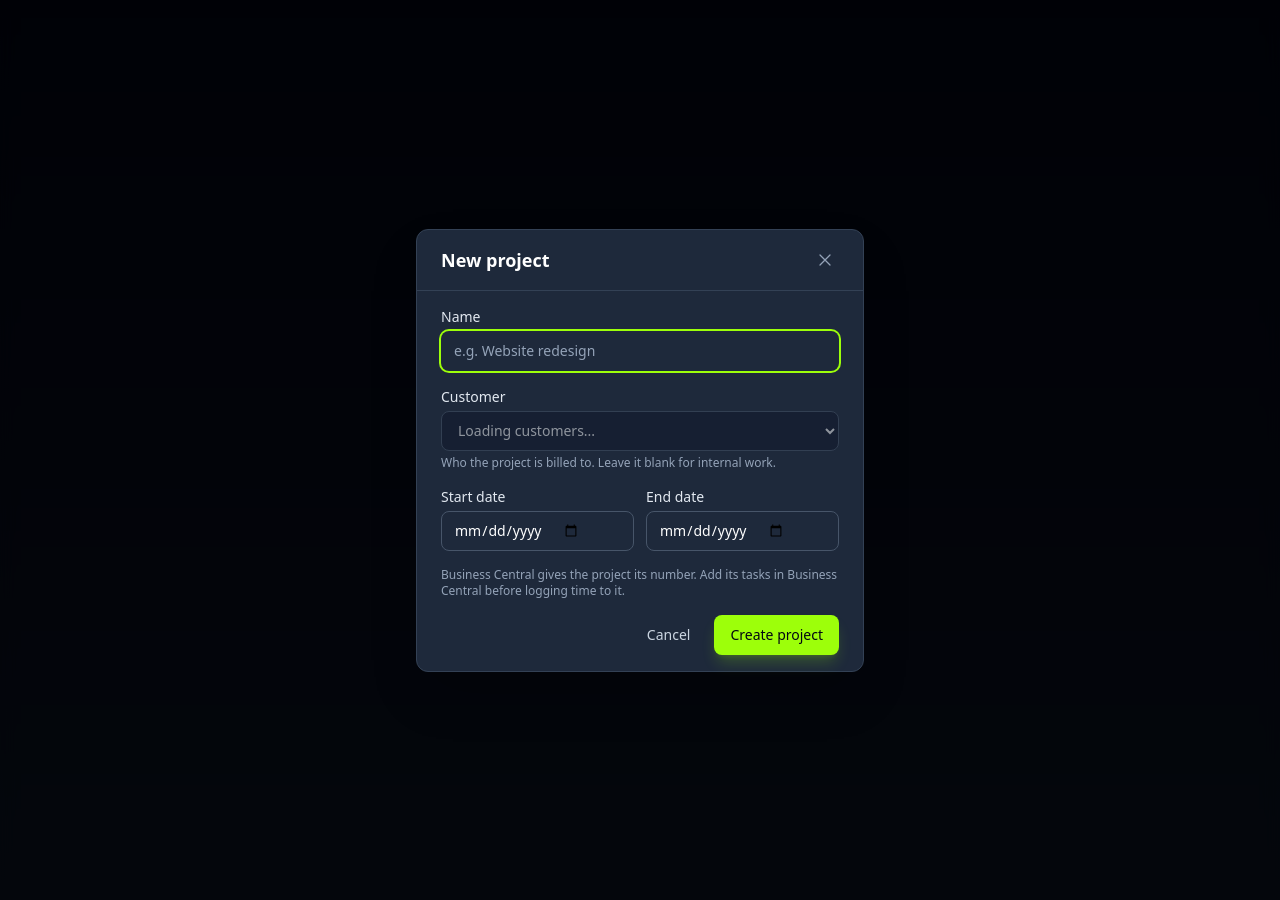
Test: NewProjectModal › explains when BC won't let the user create projects
In the field labelled "Name": (640, 350) [441,330,839,370], type "Contoso website"
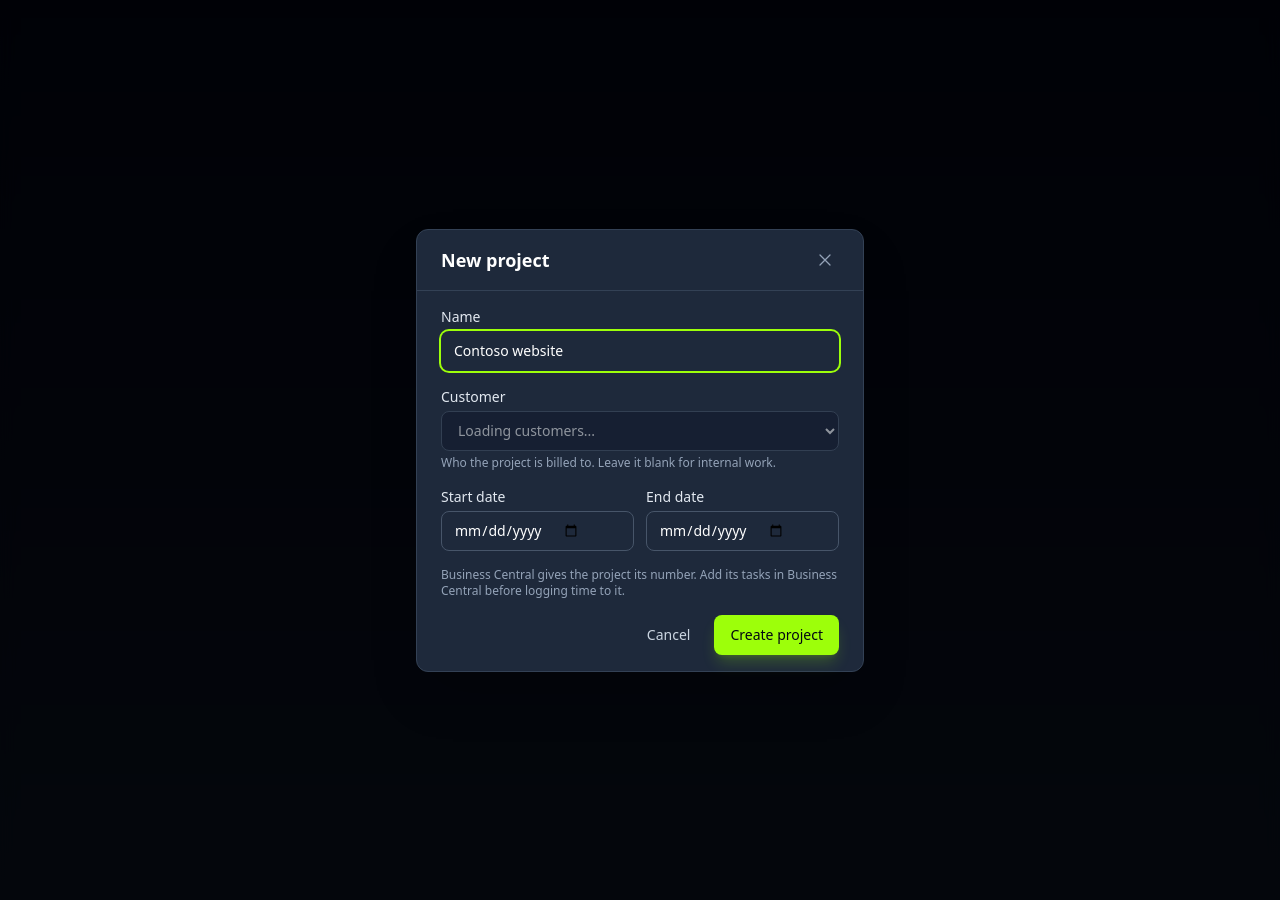
Click the button "Create project": click(777, 634) [714,614,839,654]
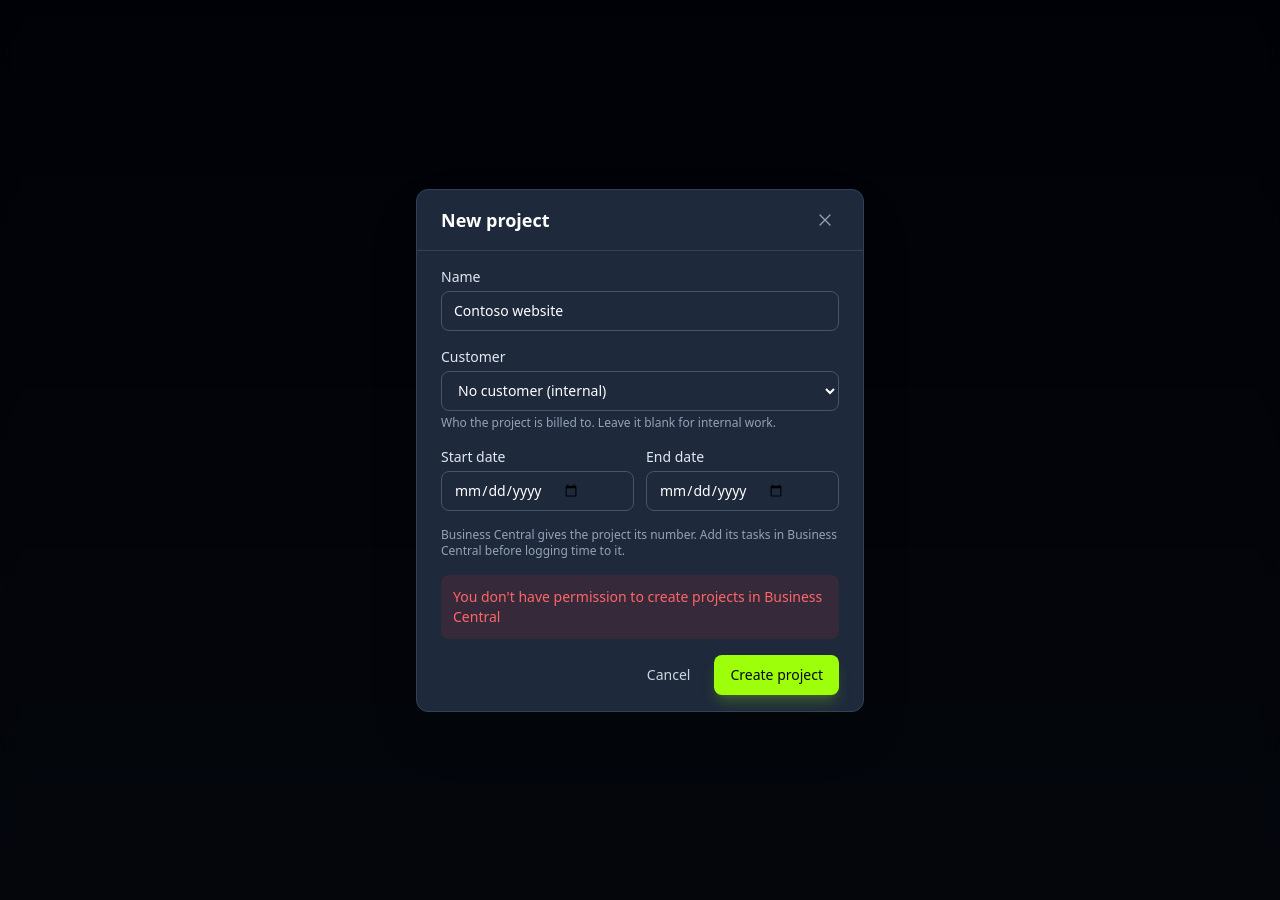
expect the button "Create project" is enabled: met, box [714,654,839,694]
expect the message reads "You don't have permission to create projects in Business Central": met, box [453,586,822,626]
